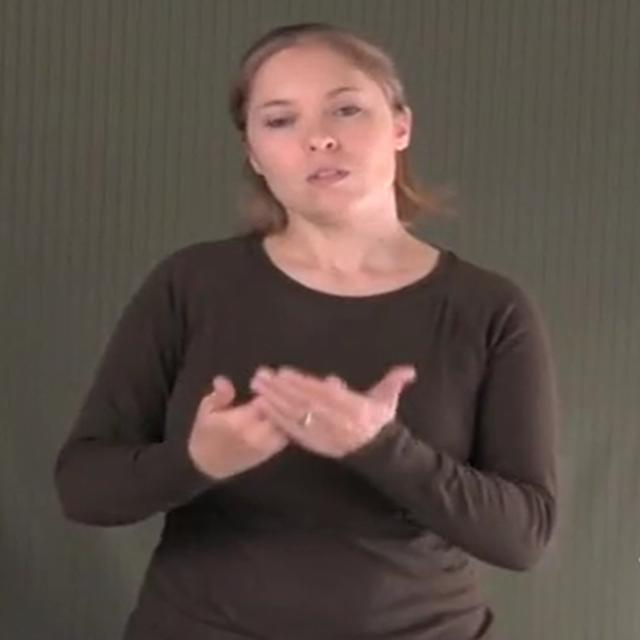good: (189, 366, 416, 480)
